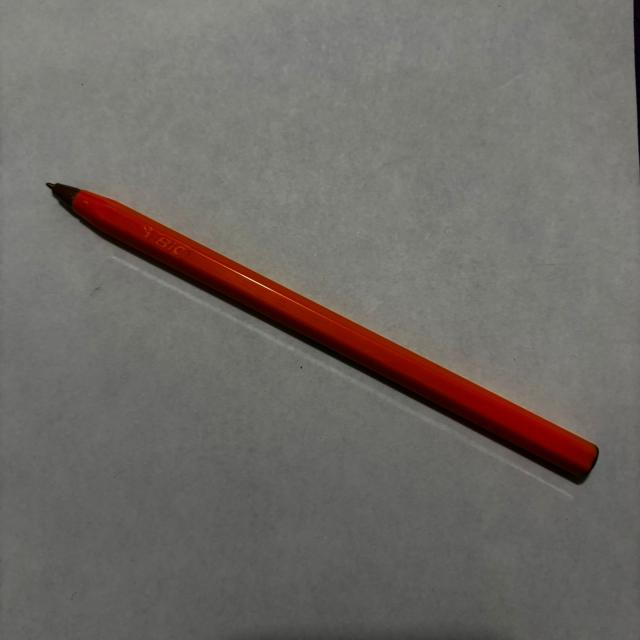pencil: (46, 184, 600, 486)
